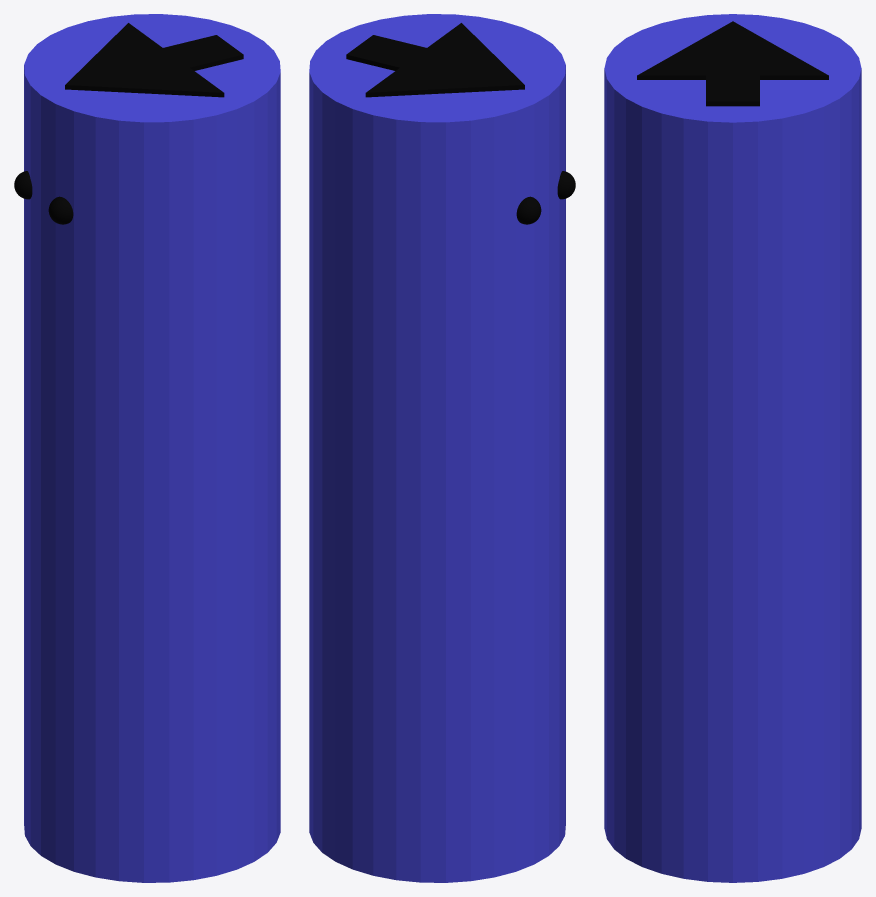
Rendered from cpurple.obj.
3 renders of one model, left to right at view 1: azimuth 30°, elevation 25°; view 2: azimuth 150°, elevation 25°; view 3: azimuth 270°, elevation 25°, orthographic.
Visible parts, largest first — view 1: Cylinder.011; view 2: Cylinder.011; view 3: Cylinder.011.
Part boxes in pixels (x1,y1,x2,y2): Cylinder.011: [14, 14, 280, 882]; Cylinder.011: [309, 14, 575, 882]; Cylinder.011: [604, 14, 861, 882].
Size of the model in its own units: 0.1612 by 0.5117 by 0.1559.
